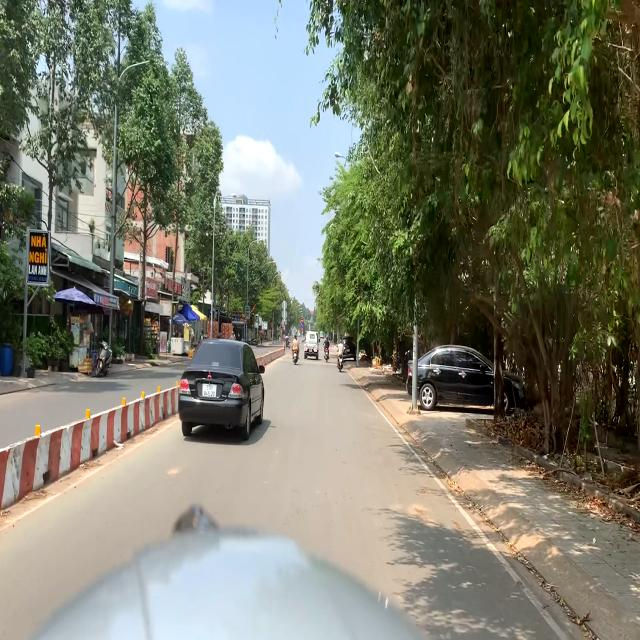P.102: (301, 318, 304, 323)
R.302a: (301, 324, 304, 327)
